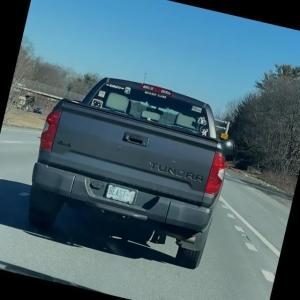Plate: (104, 182, 139, 206)
